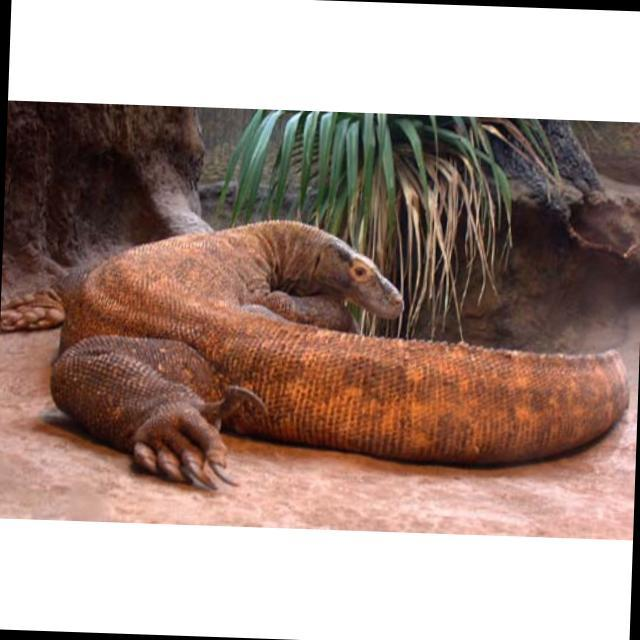KomodoDragon: (43, 214, 634, 510)
